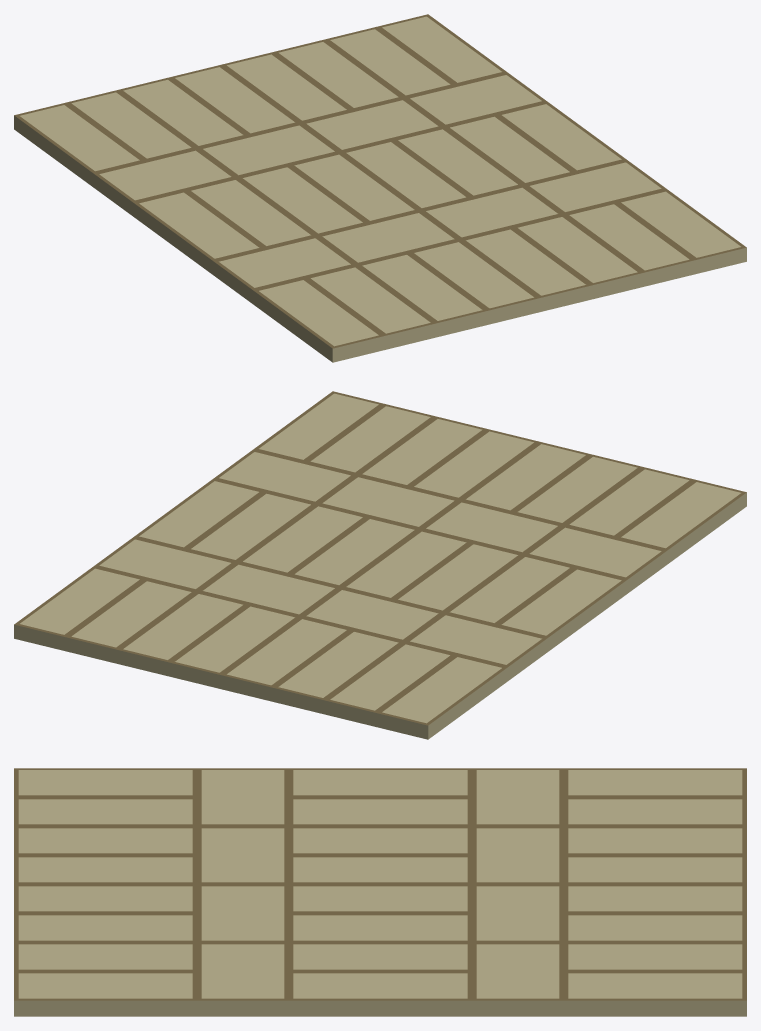
Rendered from Floor_Kotaro.fbx.
3 views of the same model, one above another, from view 1: azimuth 30°, elevation 25°; view 2: azimuth 150°, elevation 25°; view 3: azimuth 270°, elevation 25° (orthographic). The views are drawn at different scales.
Visible parts, largest first — view 1: Cube; view 2: Cube; view 3: Cube.
Boxes of the visible parts, <box> form: Cube: <box>14,14,746,362</box>; Cube: <box>14,391,746,739</box>; Cube: <box>14,768,746,1016</box>.
Size of the model in its own units: 600 by 19.54 by 800.
